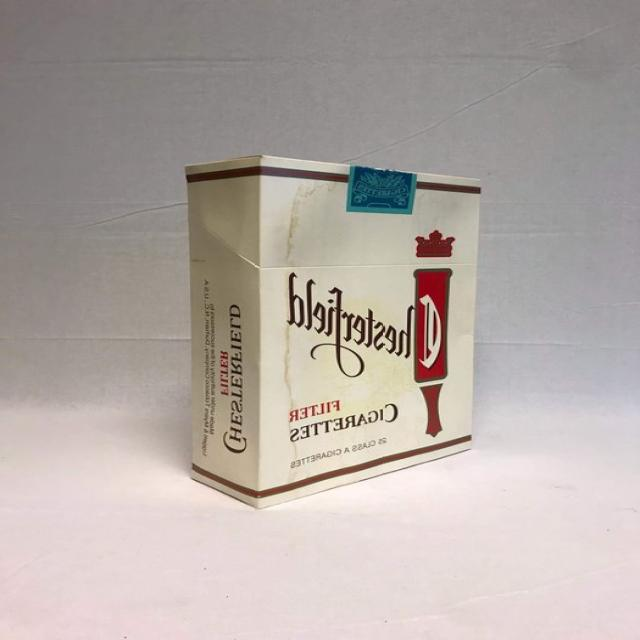chesterfield: (187, 152, 483, 512)
